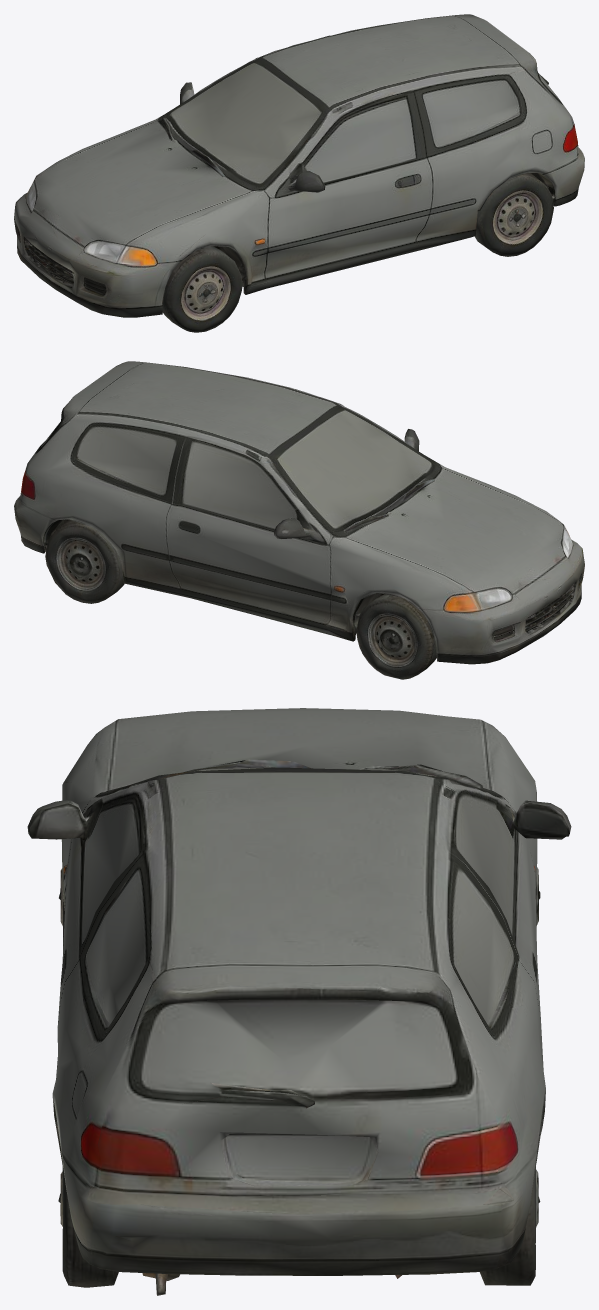
File: car_parked_a.glb
The picture shows the model from 3 angles, top to bottom: view 1: azimuth 30°, elevation 25°; view 2: azimuth 150°, elevation 25°; view 3: azimuth 270°, elevation 25°; orthographic projection. The views are drawn at different scales.
Visible parts, largest first — view 1: Mesh_0; view 2: Mesh_0; view 3: Mesh_0.
Boxes of the visible parts, x1,y1,x2,y2 form: Mesh_0: (14,14,584,332); Mesh_0: (14,361,584,679); Mesh_0: (27,708,571,1295).
Size of the model in its own units: 1.9 by 0.6491 by 0.8908.
Materials: 1 (1 with a texture image).
